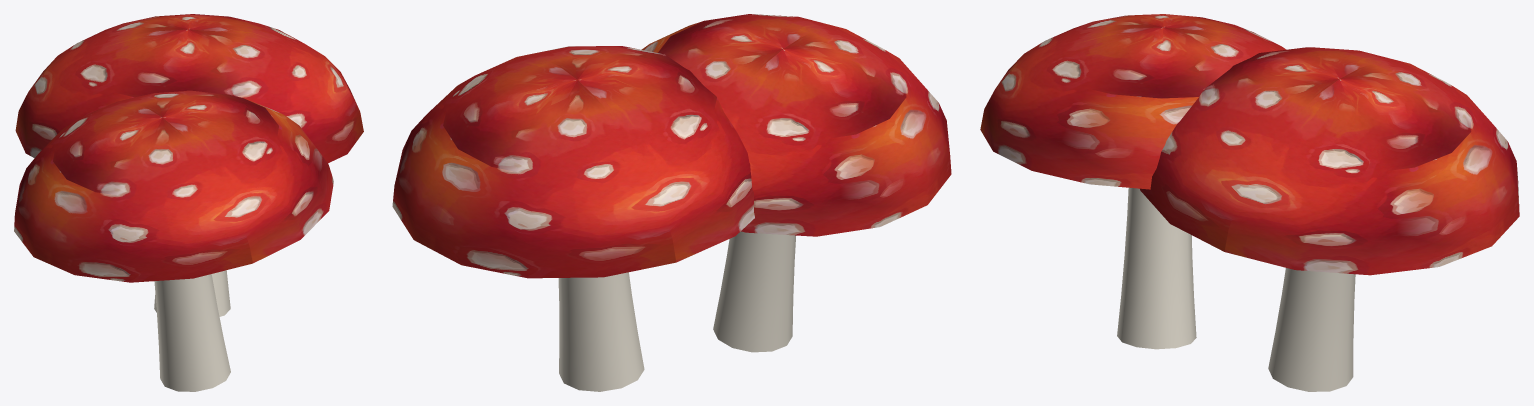
File: fly_agaric1.glb
3 views of the same model, side by side, from view 1: azimuth 30°, elevation 25°; view 2: azimuth 150°, elevation 25°; view 3: azimuth 270°, elevation 25° (orthographic). The views are drawn at different scales.
Visible parts, largest first — view 1: fly_agaric1_cap_LOD0, fly_agaric1_stem_LOD0; view 2: fly_agaric1_cap_LOD0, fly_agaric1_stem_LOD0; view 3: fly_agaric1_cap_LOD0, fly_agaric1_stem_LOD0.
Part boxes in pixels (bbox=[...]): fly_agaric1_cap_LOD0: bbox=[14, 14, 363, 282]; fly_agaric1_stem_LOD0: bbox=[154, 270, 230, 391]; fly_agaric1_cap_LOD0: bbox=[392, 14, 951, 278]; fly_agaric1_stem_LOD0: bbox=[558, 231, 795, 391]; fly_agaric1_cap_LOD0: bbox=[980, 14, 1519, 275]; fly_agaric1_stem_LOD0: bbox=[1117, 187, 1355, 391].
Size of what is drawn, in the model's own units: 0.3068 by 0.2107 by 0.339.
Materials: 3 (1 with a texture image).
